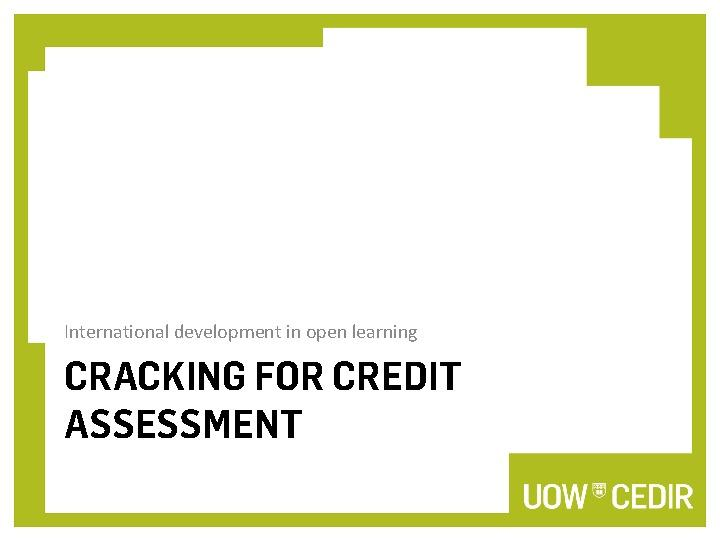title: (61, 316, 470, 456)
